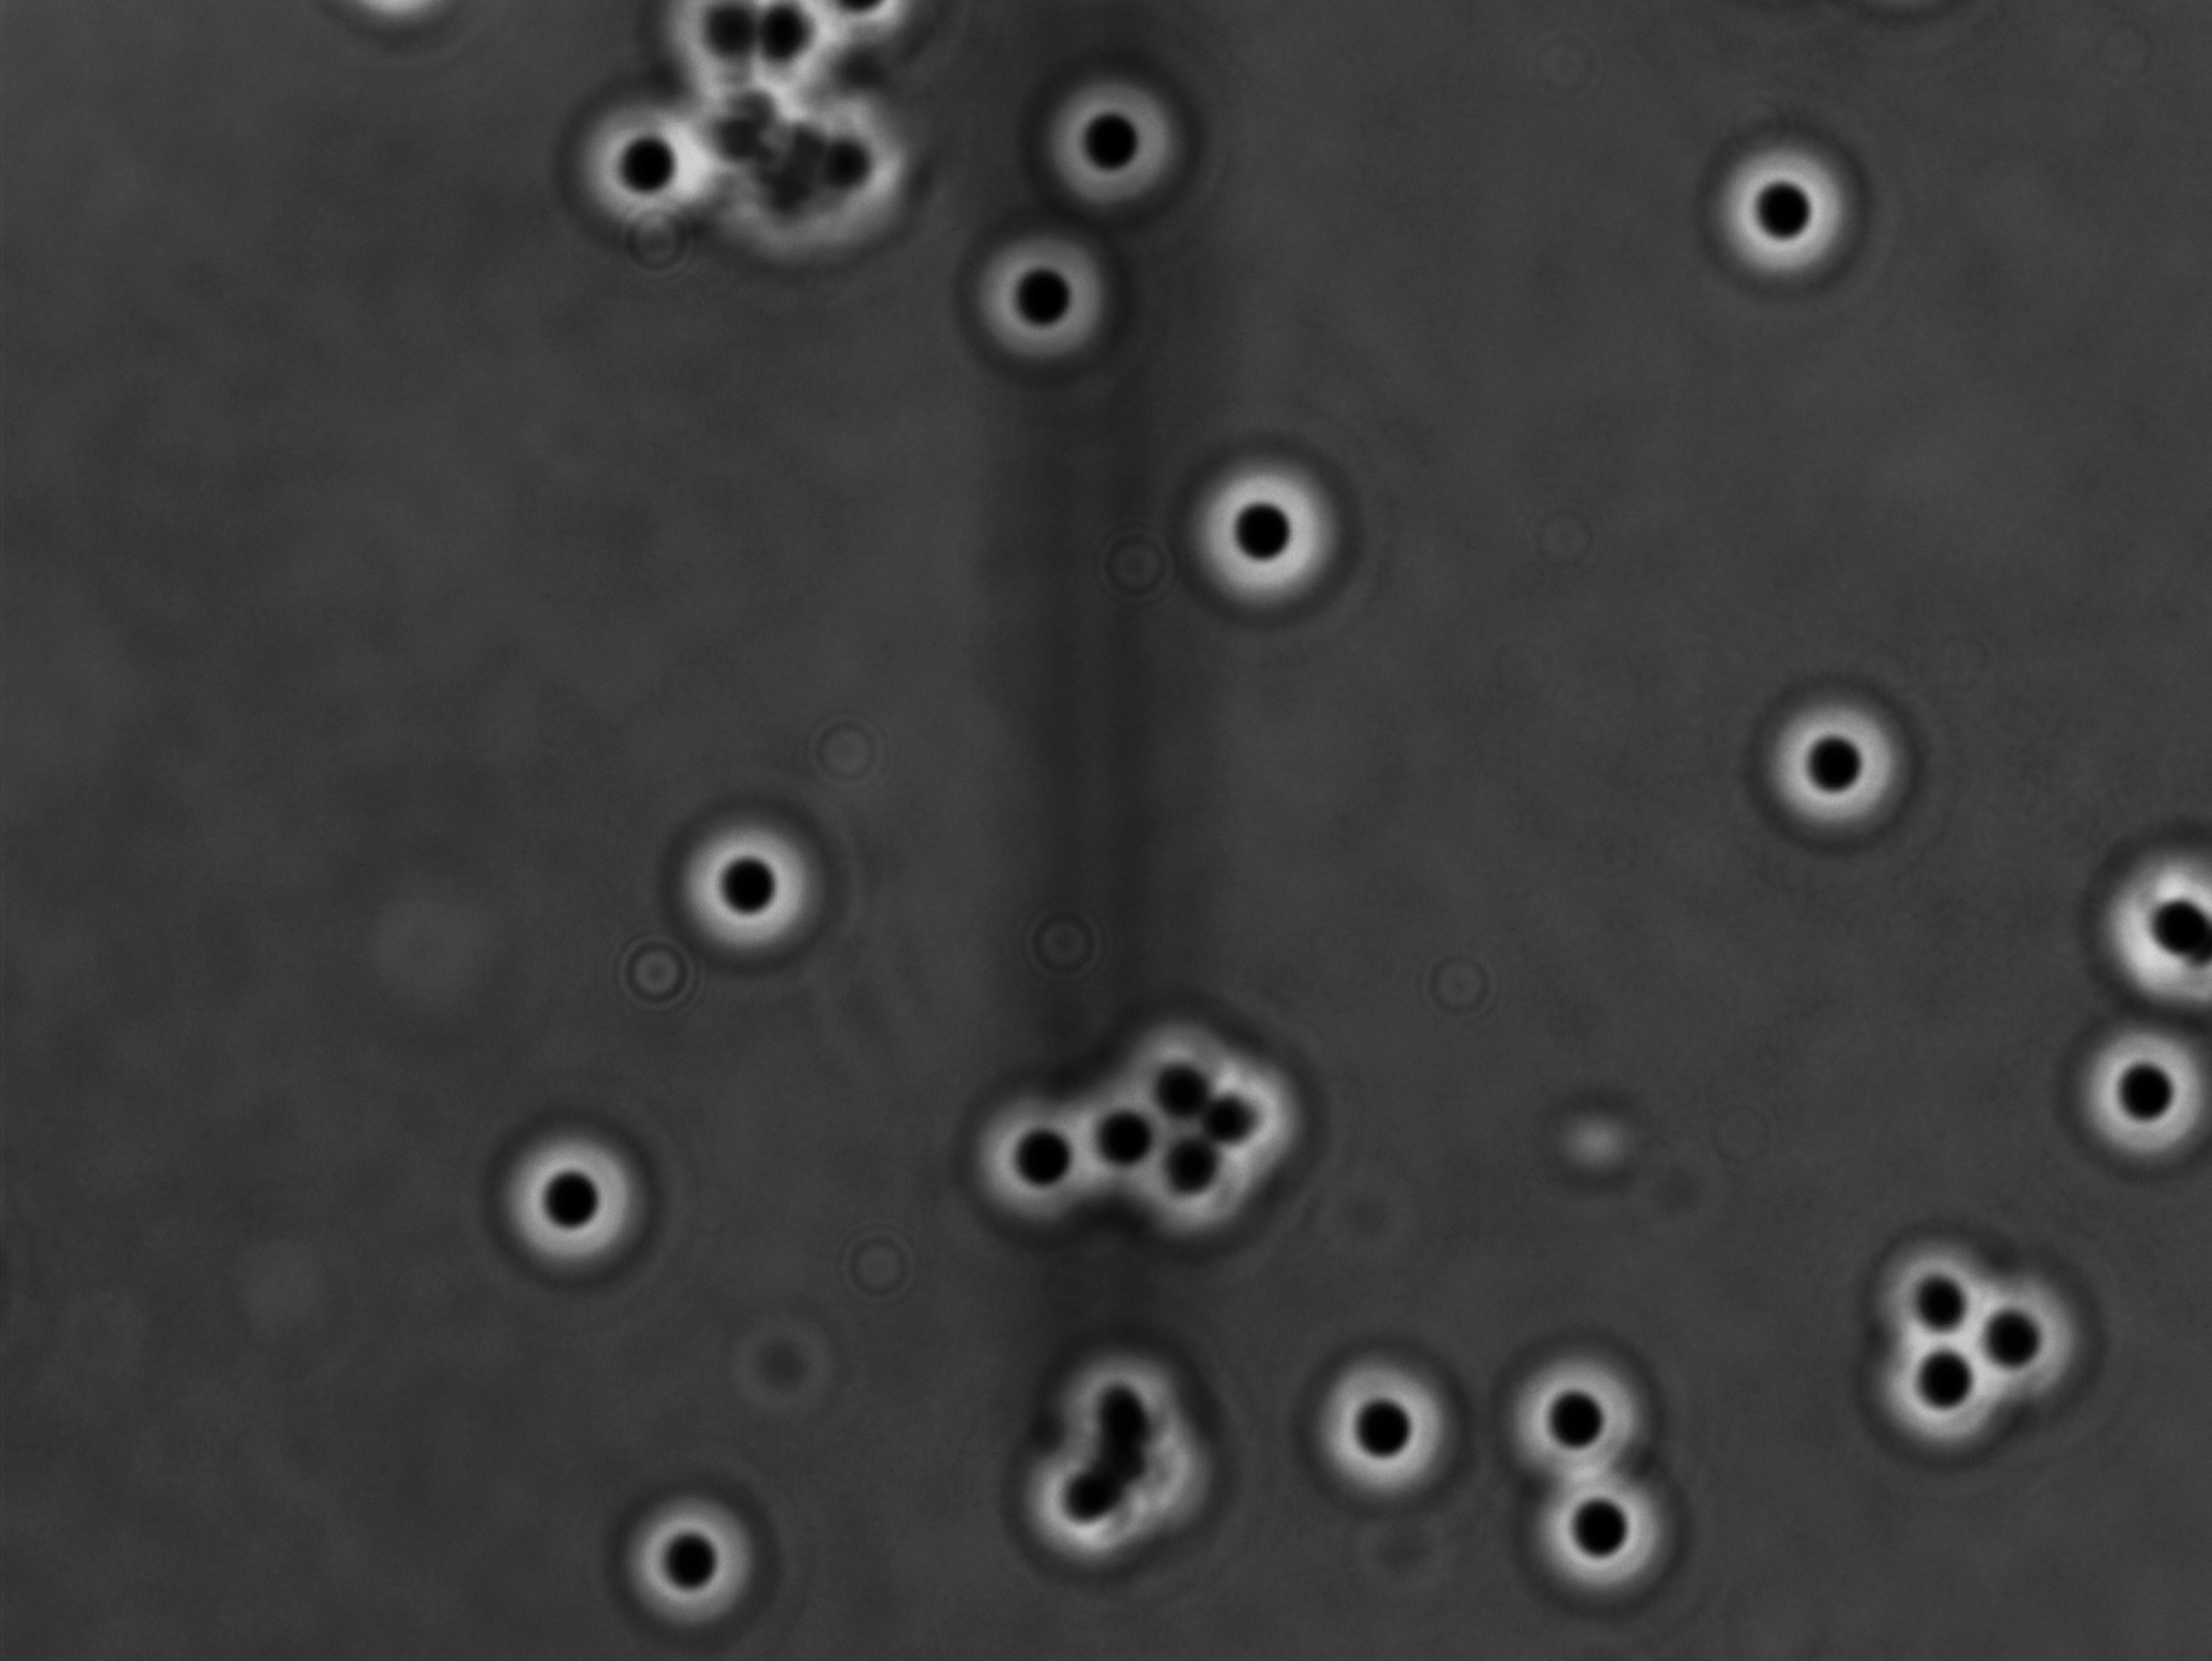depth:-60: (1743, 660, 1959, 865), (1174, 440, 1366, 637), (598, 1460, 792, 1654), (1284, 1333, 1476, 1525), (647, 790, 851, 968), (1692, 106, 1874, 304), (478, 1101, 668, 1282), (951, 218, 1144, 393), (1483, 1328, 1671, 1506), (1516, 1445, 1711, 1616), (2045, 988, 2212, 1185), (1024, 59, 1198, 218)
